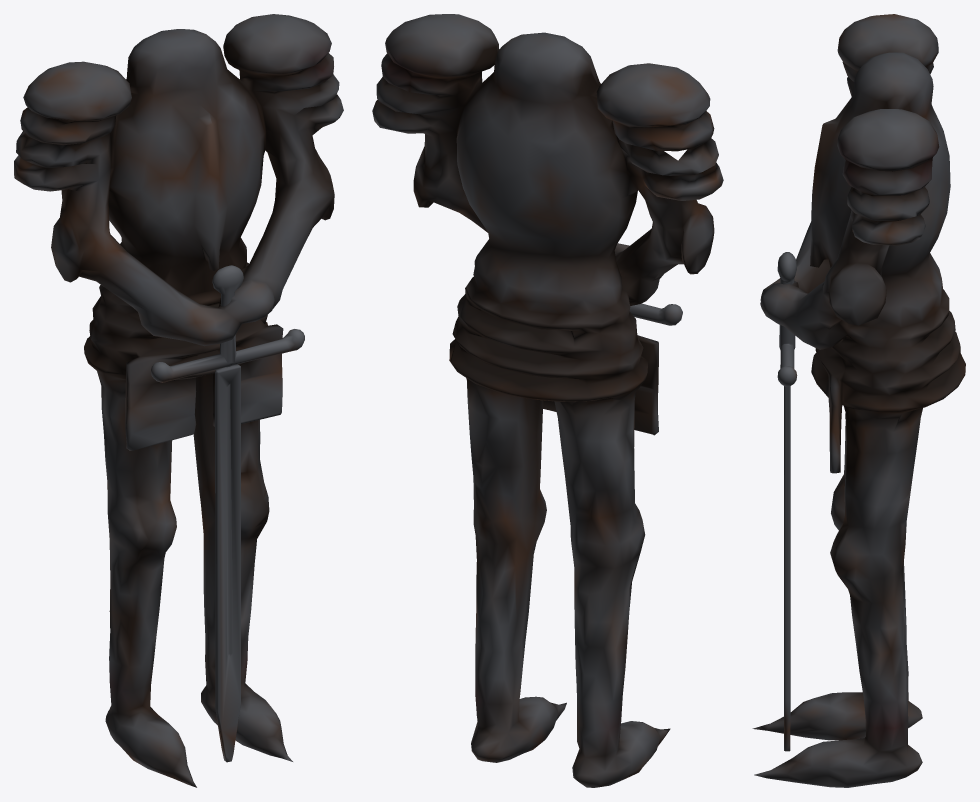
File: armour_body.glb
3 views of the same model, side by side, from view 1: azimuth 30°, elevation 25°; view 2: azimuth 150°, elevation 25°; view 3: azimuth 270°, elevation 25° (orthographic). The views are drawn at different scales.
Visible parts, largest first — view 1: armour_body; view 2: armour_body; view 3: armour_body.
Part boxes in pixels (x1,y1,x2,y2): armour_body: (14, 14, 343, 787); armour_body: (372, 14, 723, 787); armour_body: (752, 14, 965, 787).
Size of the model in its own units: 0.7336 by 1.53 by 0.4236.
